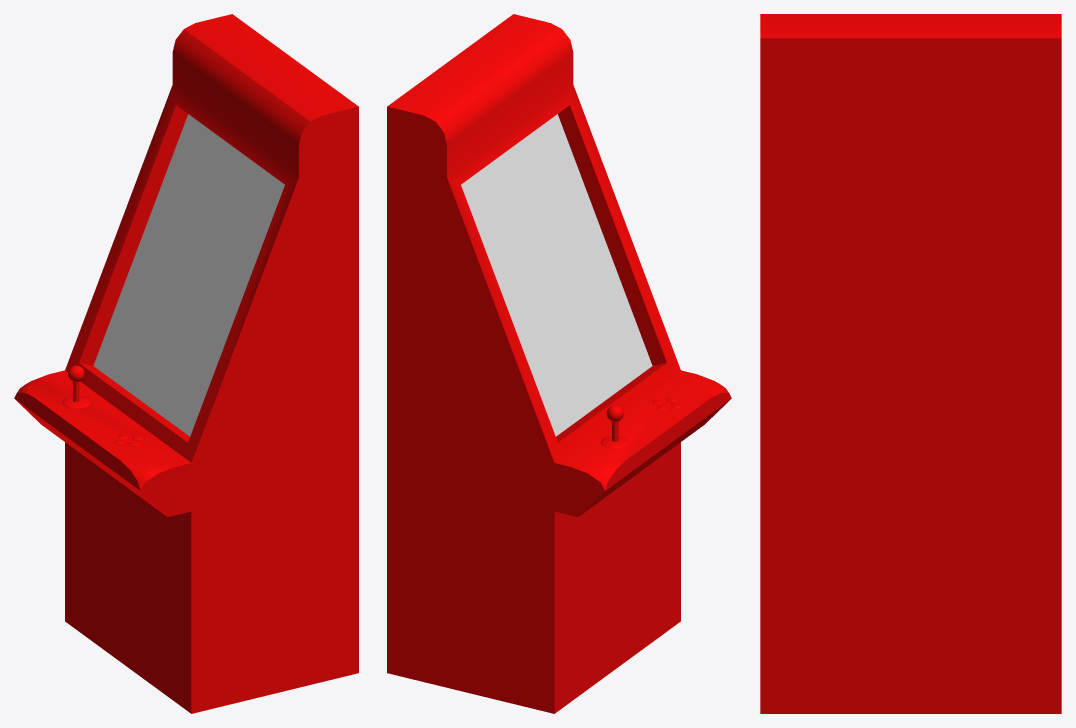
File: snakemachine.fbx
3 renders of one model, left to right at view 1: azimuth 30°, elevation 25°; view 2: azimuth 150°, elevation 25°; view 3: azimuth 270°, elevation 25°, orthographic. The views are drawn at different scales.
Parts seen in each view (by area): view 1: Cube.058, Cube.016; view 2: Cube.058, Cube.016; view 3: Cube.058.
Boxes of the visible parts, x1,y1,x2,y2 form: Cube.058: [14, 14, 358, 713]; Cube.016: [93, 114, 284, 436]; Cube.058: [387, 14, 731, 713]; Cube.016: [461, 114, 652, 436]; Cube.058: [760, 14, 1061, 713].
Size of the model in its own units: 261 by 647 by 262.
